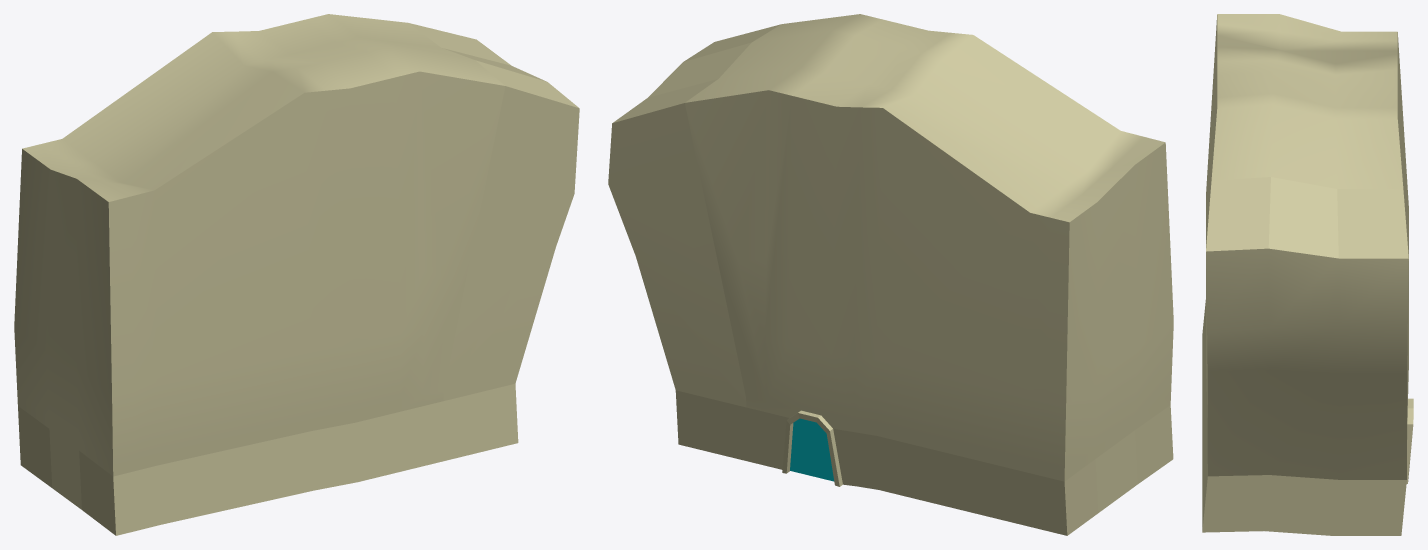
Rendered from hut3.fbx.
The picture shows the model from 3 angles, left to right: view 1: azimuth 30°, elevation 25°; view 2: azimuth 150°, elevation 25°; view 3: azimuth 270°, elevation 25°; orthographic projection. The views are drawn at different scales.
Visible parts, largest first — view 1: pasted__pCube2; view 2: pasted__pCube2; view 3: pasted__pCube2.
Boxes of the visible parts, box(x1,y1,x2,y2) form: pasted__pCube2: box(14, 14, 579, 535); pasted__pCube2: box(608, 14, 1173, 535); pasted__pCube2: box(1202, 14, 1413, 535).
Size of the model in its own units: 33.16 by 26.71 by 13.11.
